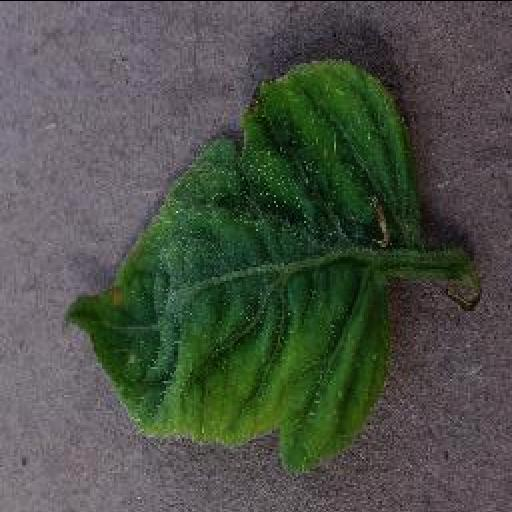disease_tomato: (62, 58, 424, 470)
